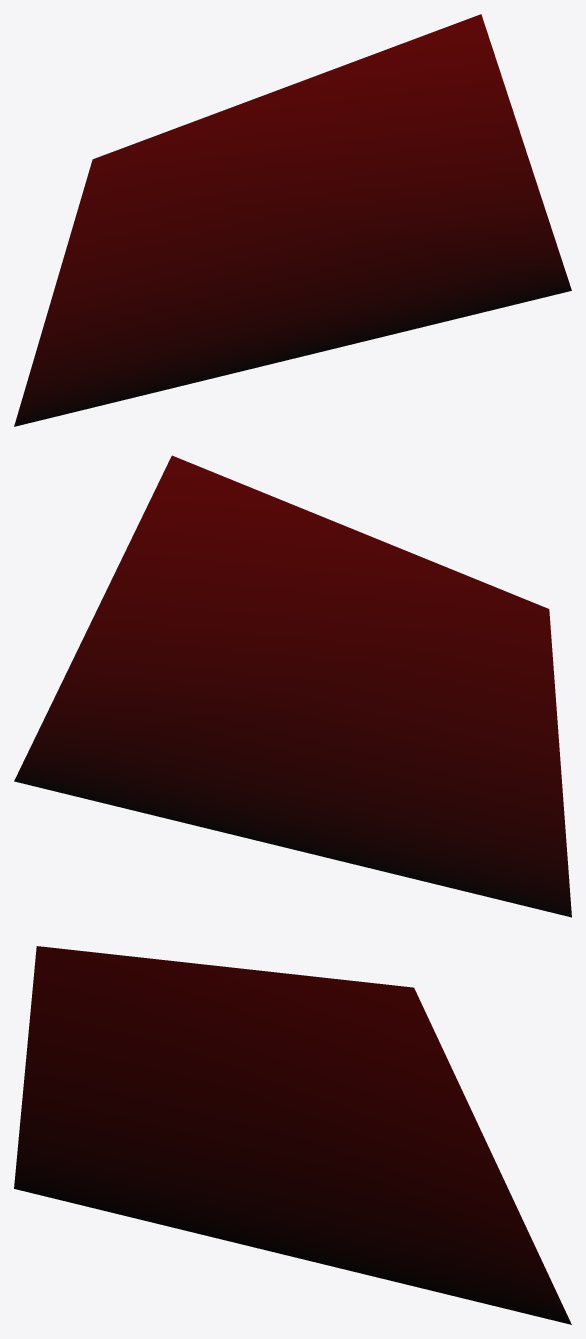
The model's file is Grass1.glb.
3 renders of one model, top to bottom at view 1: azimuth 30°, elevation 25°; view 2: azimuth 150°, elevation 25°; view 3: azimuth 330°, elevation 25°, orthographic.
Visible parts, largest first — view 1: Grass; view 2: Grass; view 3: Grass.
Part boxes in pixels (bbox=[...]): Grass: bbox=[14, 14, 571, 426]; Grass: bbox=[14, 455, 571, 917]; Grass: bbox=[14, 946, 571, 1324].
Bounding box in the file's own units: 0.3025 × 0.1718 × 0.0316.
